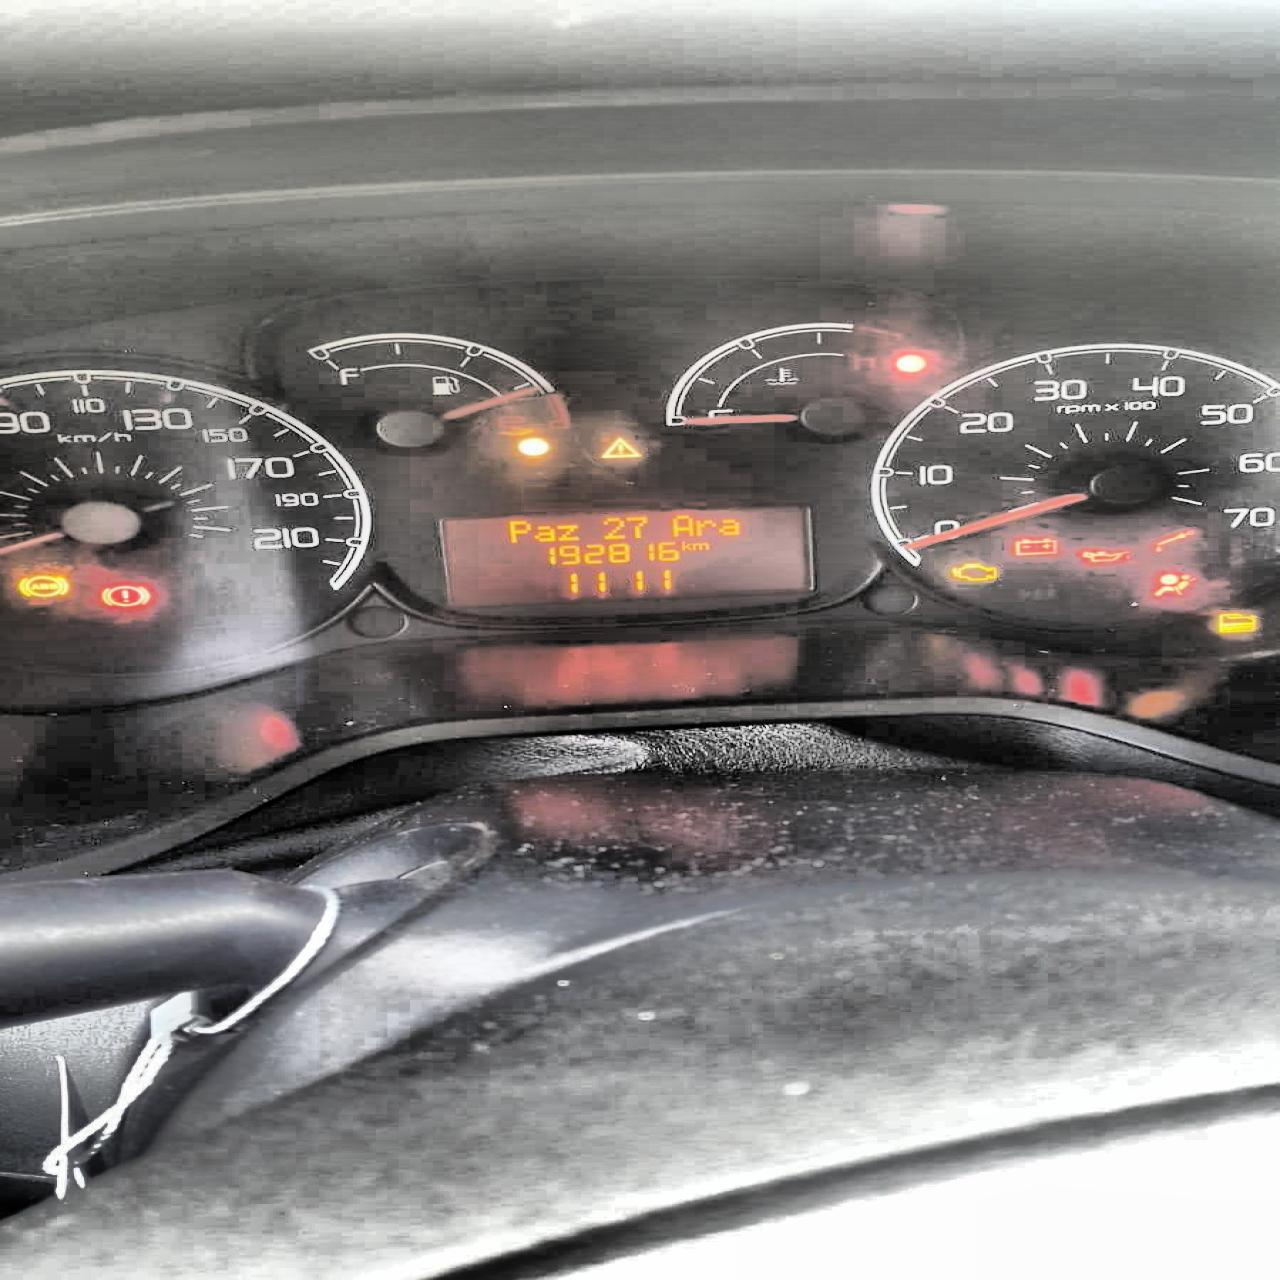1: (565, 570, 584, 593), (595, 570, 607, 594), (632, 570, 644, 592), (545, 545, 557, 567), (646, 542, 655, 561), (662, 568, 670, 591)
2: (599, 517, 625, 540), (584, 543, 604, 563)
6: (656, 540, 678, 561)
7: (625, 513, 649, 538)
8: (608, 542, 632, 564)
9: (558, 544, 581, 564)
X: (505, 518, 531, 543), (669, 513, 695, 536), (533, 524, 556, 542), (554, 524, 578, 540), (717, 518, 741, 535), (695, 518, 716, 536), (690, 542, 710, 550), (679, 539, 692, 551)
odometer: (433, 508, 811, 597)
